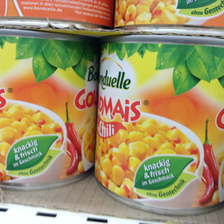corn: (96, 35, 224, 216), (1, 27, 98, 191)
